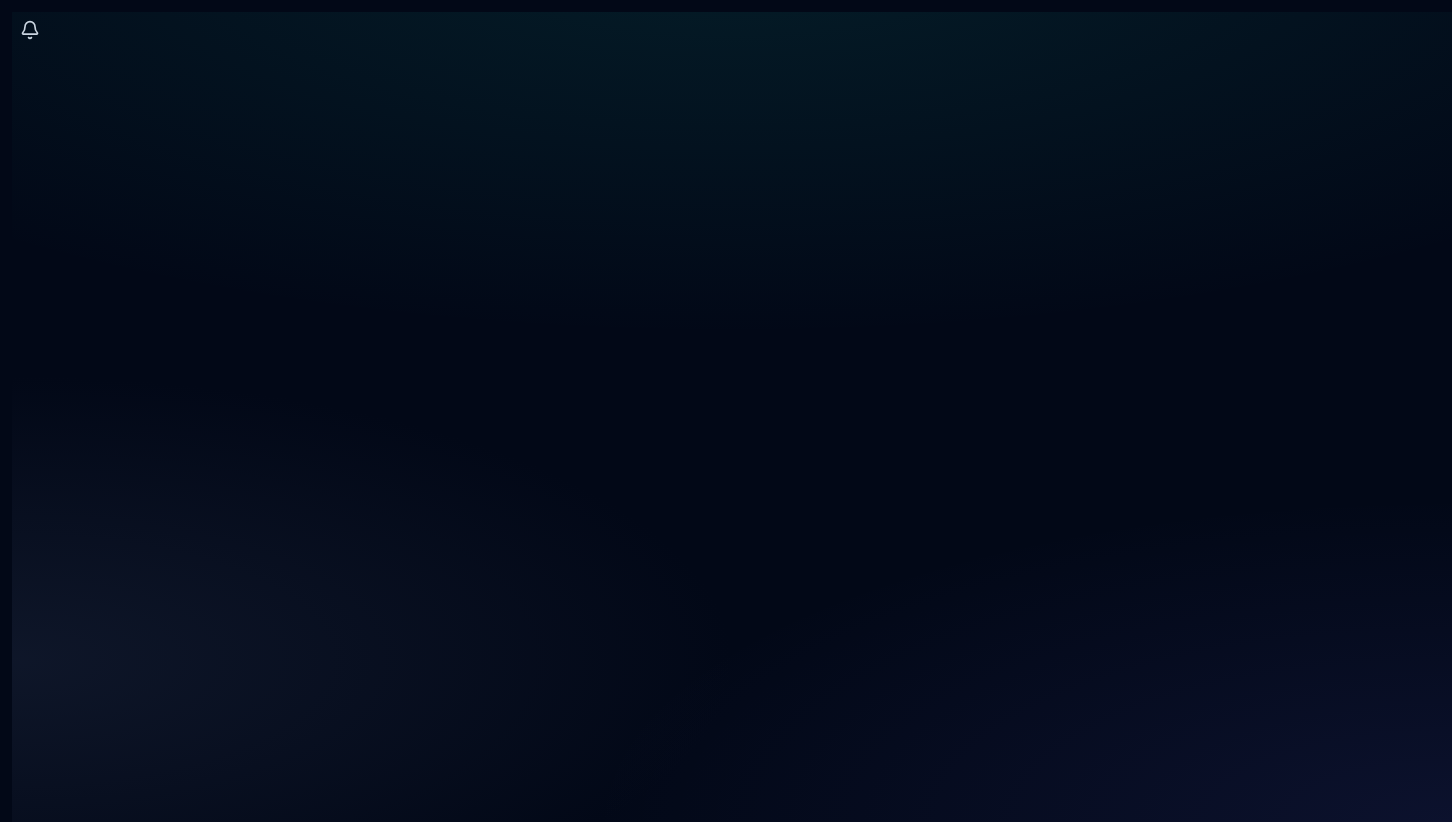
NotificationBell Responsive Mobile Dropdown (Item U8) › dropdown uses responsive positioning classes to prevent mobile clipping
The width and height of the screenshot is (1452, 822).
Note: Open notification dropdown
Click the button named "notifications" at (30, 30), box [12,12,48,48]
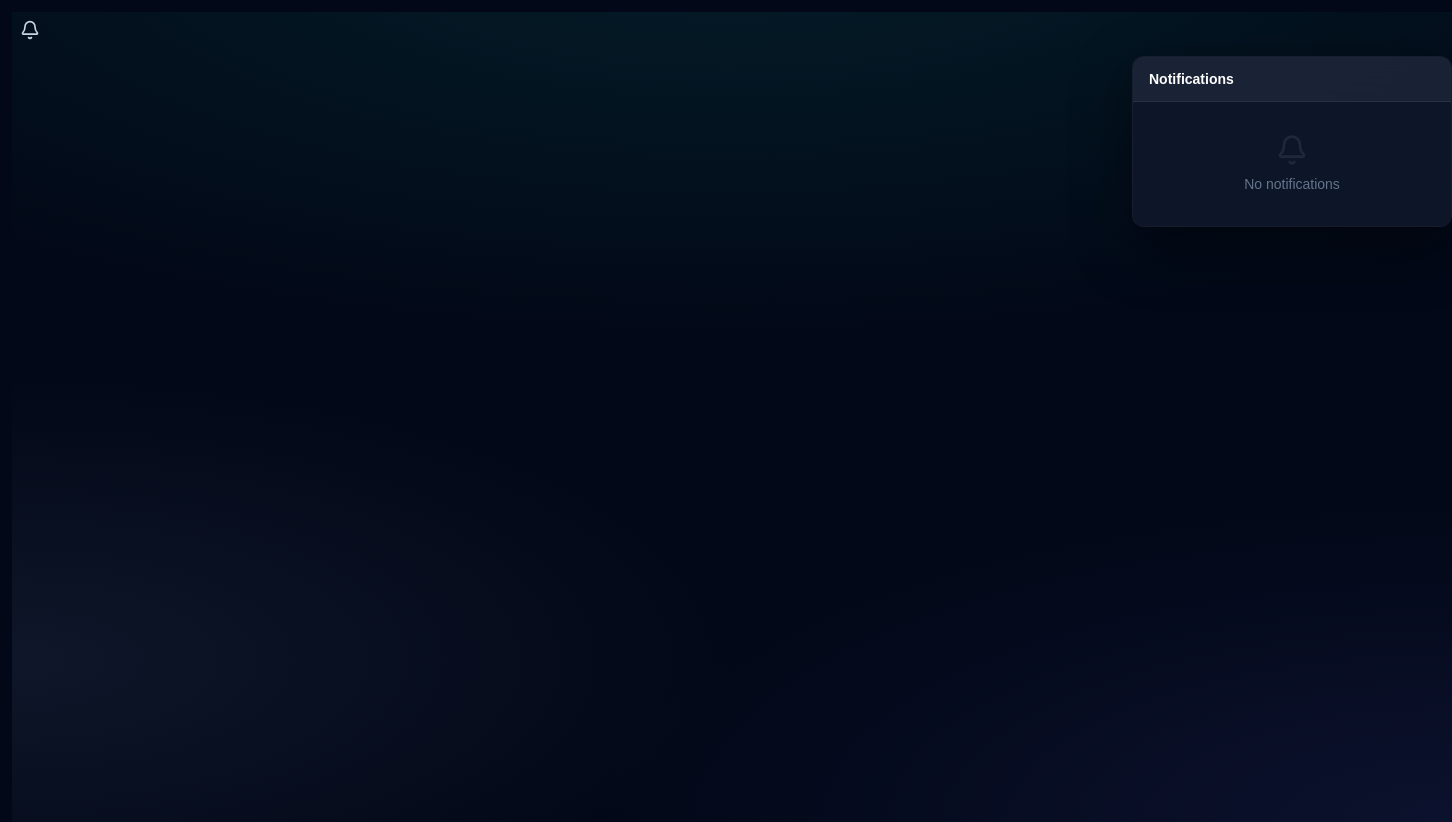
Check: the text "Notifications" is shown, box [1149,71,1234,87]
